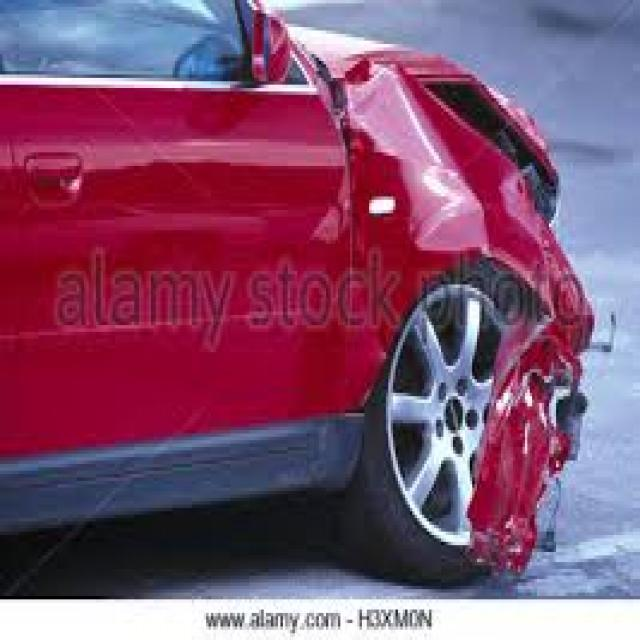minor: (396, 57, 591, 574)
